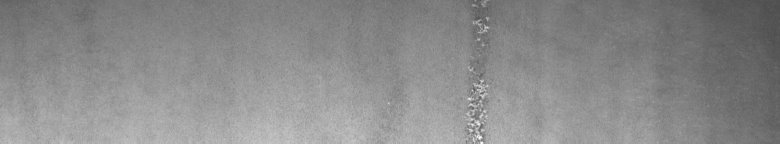hc: (461, 4, 500, 136)
